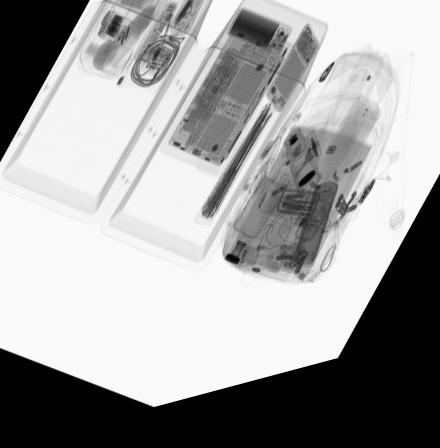Powerbank: (263, 38, 321, 130)
